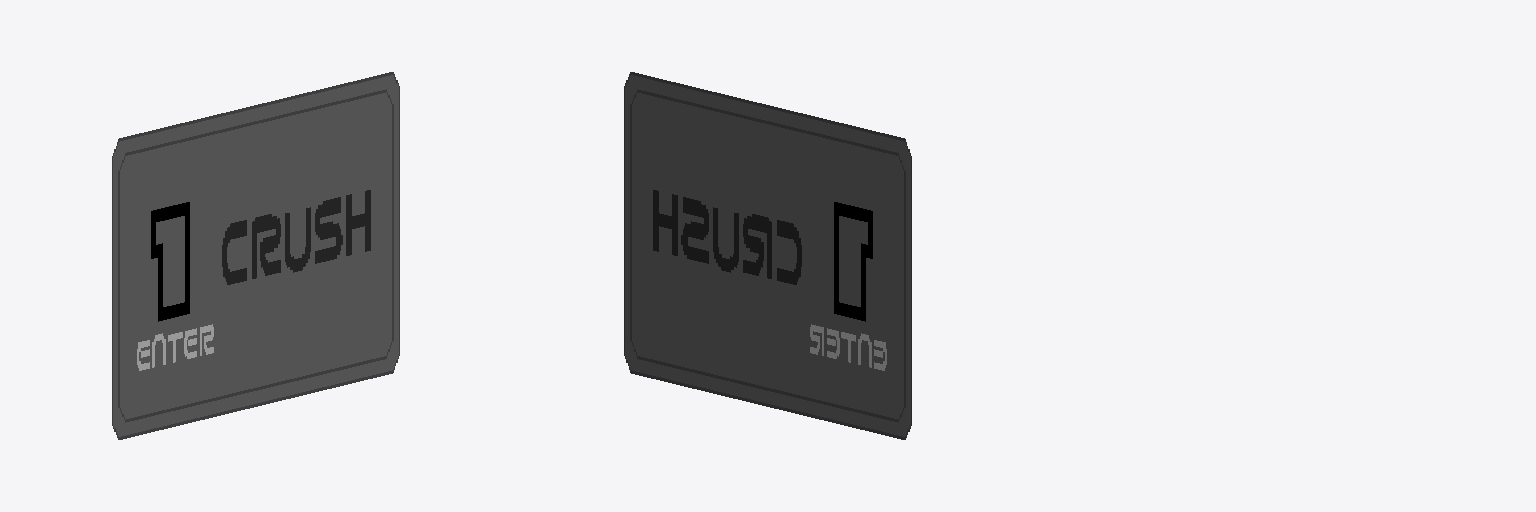
3 renders of one model, left to right at view 1: azimuth 30°, elevation 25°; view 2: azimuth 150°, elevation 25°; view 3: azimuth 270°, elevation 25°, orthographic.
Visible parts, largest first — view 1: 平面; view 2: 平面; view 3: none.
Boxes of the visible parts, box(x1,y1,x2,y2) form: 平面: box(112, 72, 399, 439); 平面: box(624, 72, 911, 439).
Bounding box in the file's own units: 2 × 2 × 0.
Materials: 1 (1 with a texture image).